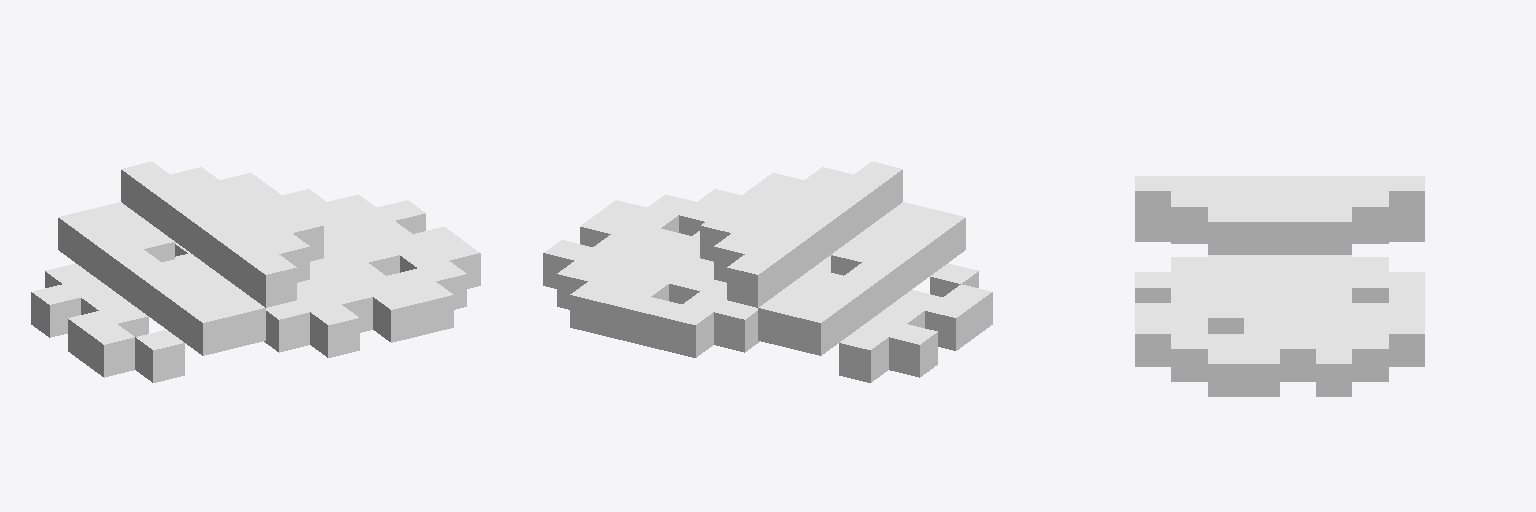
File: 4_Sliced.obj
The picture shows the model from 3 angles: view 1: azimuth 30°, elevation 25°; view 2: azimuth 150°, elevation 25°; view 3: azimuth 270°, elevation 25°; orthographic projection.
Visible parts, largest first — view 1: object 1; view 2: object 1; view 3: object 1.
Part boxes in pixels (x1,y1,x2,y2): object 1: (31, 162, 480, 382); object 1: (543, 162, 992, 382); object 1: (1135, 176, 1424, 396).
Size of the model in its own units: 1.2 by 0.3 by 0.8.